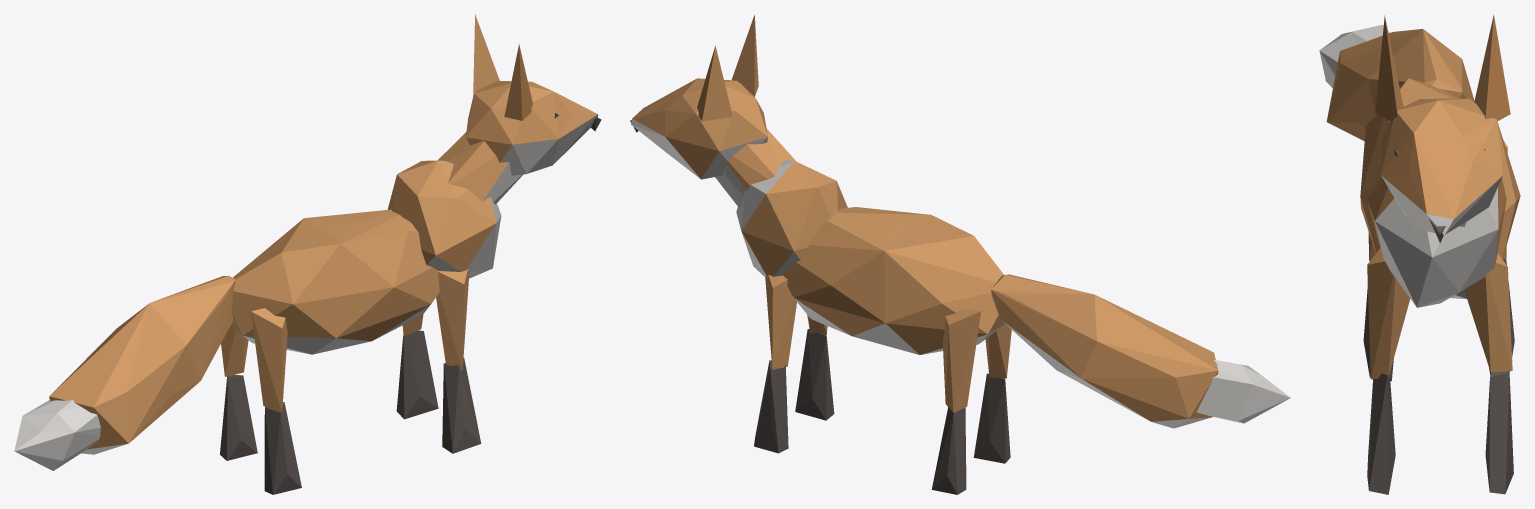
File: lowpoly-fox.glb
3 views of the same model, side by side, from view 1: azimuth 30°, elevation 25°; view 2: azimuth 150°, elevation 25°; view 3: azimuth 270°, elevation 25° (orthographic). The views are drawn at different scales.
Visible parts, largest first — view 1: fox; view 2: fox; view 3: fox.
Boxes of the visible parts, <box> form: fox: <box>14,14,601,494</box>; fox: <box>630,15,1290,494</box>; fox: <box>1319,14,1520,494</box>.
Size of the model in its own units: 0.9439 by 0.5607 by 0.2012.
